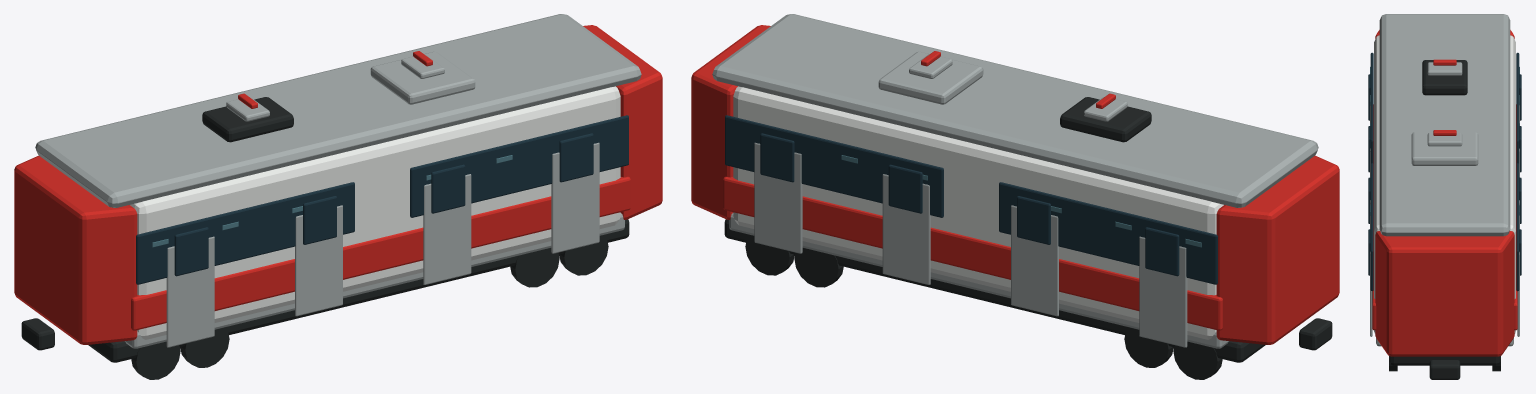
The model's file is munich_sbahn_carriage.glb.
The picture shows the model from 3 angles, left to right: view 1: azimuth 30°, elevation 25°; view 2: azimuth 150°, elevation 25°; view 3: azimuth 270°, elevation 25°; orthographic projection. The views are drawn at different scales.
Visible parts, largest first — view 1: Munich S-Bahn carriage roof, Munich S-Bahn carriage body, Munich S-Bahn carriage rounded red end -1, Munich S-Bahn carriage red waist stripe, Munich S-Bahn carriage rounded red end 1, Munich S-Bahn carriage door -1 0, Munich S-Bahn carriage door -1 3, Munich S-Bahn carriage door -1 2, Munich S-Bahn carriage door -1 1, Munich S-Bahn carriage side window -1 1, Munich S-Bahn carriage side window -1 4, Munich S-Bahn carriage underframe (+18 smaller); view 2: Munich S-Bahn carriage roof, Munich S-Bahn carriage body, Munich S-Bahn carriage rounded red end -1, Munich S-Bahn carriage red waist stripe, Munich S-Bahn carriage rounded red end 1, Munich S-Bahn carriage door 1 0, Munich S-Bahn carriage door 1 3, Munich S-Bahn carriage door 1 2, Munich S-Bahn carriage door 1 1, Munich S-Bahn carriage side window 1 1, Munich S-Bahn carriage side window 1 4, Munich S-Bahn carriage underframe (+18 smaller); view 3: Munich S-Bahn carriage roof, Munich S-Bahn carriage rounded red end 1, Munich S-Bahn carriage body, Munich S-Bahn carriage roof fairing, Munich S-Bahn carriage roof equipment, Munich S-Bahn carriage underframe, Munich S-Bahn carriage red waist stripe, Munich S-Bahn carriage front coupler, Munich S-Bahn carriage electrical base 1.45, Munich S-Bahn carriage electrical base -1.55, Munich S-Bahn carriage side window 1 5, Munich S-Bahn carriage side window -1 5 (+6 smaller).
Part boxes in pixels (bbox=[...]): Munich S-Bahn carriage roof: bbox=[35, 14, 641, 207]; Munich S-Bahn carriage body: bbox=[130, 86, 620, 339]; Munich S-Bahn carriage rounded red end -1: bbox=[14, 155, 137, 344]; Munich S-Bahn carriage red waist stripe: bbox=[131, 176, 630, 330]; Munich S-Bahn carriage rounded red end 1: bbox=[583, 25, 662, 219]; Munich S-Bahn carriage door -1 0: bbox=[166, 236, 214, 347]; Munich S-Bahn carriage door -1 3: bbox=[551, 142, 599, 253]; Munich S-Bahn carriage door -1 2: bbox=[423, 174, 471, 284]; Munich S-Bahn carriage door -1 1: bbox=[295, 205, 342, 316]; Munich S-Bahn carriage side window -1 1: bbox=[208, 199, 284, 265]; Munich S-Bahn carriage side window -1 4: bbox=[482, 133, 557, 199]; Munich S-Bahn carriage underframe: bbox=[88, 219, 629, 362]; Munich S-Bahn carriage roof: bbox=[712, 14, 1318, 207]; Munich S-Bahn carriage body: bbox=[733, 86, 1223, 339]; Munich S-Bahn carriage rounded red end -1: bbox=[1216, 155, 1339, 344]; Munich S-Bahn carriage red waist stripe: bbox=[723, 176, 1222, 330]; Munich S-Bahn carriage rounded red end 1: bbox=[691, 25, 770, 219]; Munich S-Bahn carriage door 1 0: bbox=[1139, 236, 1187, 347]; Munich S-Bahn carriage door 1 3: bbox=[754, 142, 802, 253]; Munich S-Bahn carriage door 1 2: bbox=[882, 174, 930, 284]; Munich S-Bahn carriage door 1 1: bbox=[1011, 205, 1058, 316]; Munich S-Bahn carriage side window 1 1: bbox=[1069, 199, 1144, 265]; Munich S-Bahn carriage side window 1 4: bbox=[796, 132, 871, 200]; Munich S-Bahn carriage underframe: bbox=[724, 219, 1265, 362]; Munich S-Bahn carriage roof: bbox=[1379, 14, 1510, 236]; Munich S-Bahn carriage rounded red end 1: bbox=[1375, 231, 1514, 356]; Munich S-Bahn carriage body: bbox=[1374, 35, 1515, 333]; Munich S-Bahn carriage roof fairing: bbox=[1411, 132, 1478, 165]; Munich S-Bahn carriage roof equipment: bbox=[1422, 60, 1467, 95]; Munich S-Bahn carriage underframe: bbox=[1389, 356, 1500, 365]; Munich S-Bahn carriage red waist stripe: bbox=[1372, 104, 1517, 330]; Munich S-Bahn carriage front coupler: bbox=[1429, 360, 1460, 379]; Munich S-Bahn carriage electrical base 1.45: bbox=[1427, 132, 1462, 146]; Munich S-Bahn carriage electrical base -1.55: bbox=[1427, 62, 1462, 75]; Munich S-Bahn carriage side window 1 5: bbox=[1516, 220, 1519, 291]; Munich S-Bahn carriage side window -1 5: bbox=[1370, 220, 1373, 291].
Size of the model in its own units: 10.6 by 3.7 by 2.77.
